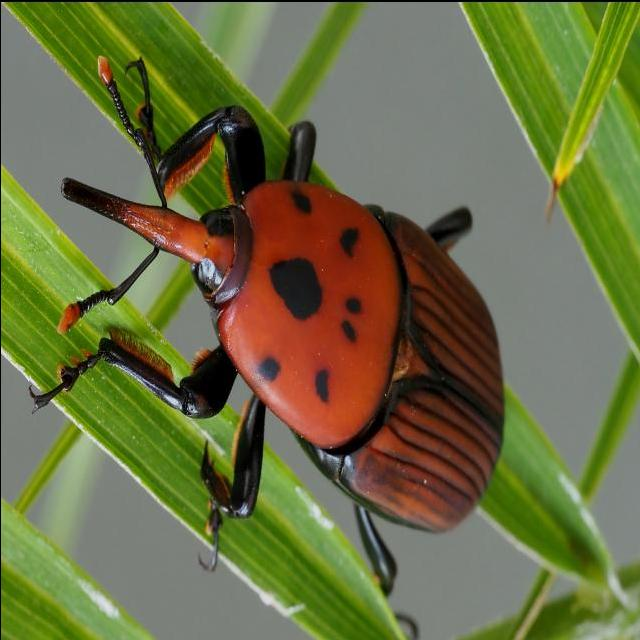Red-palm-weevil: (58, 51, 504, 517)
